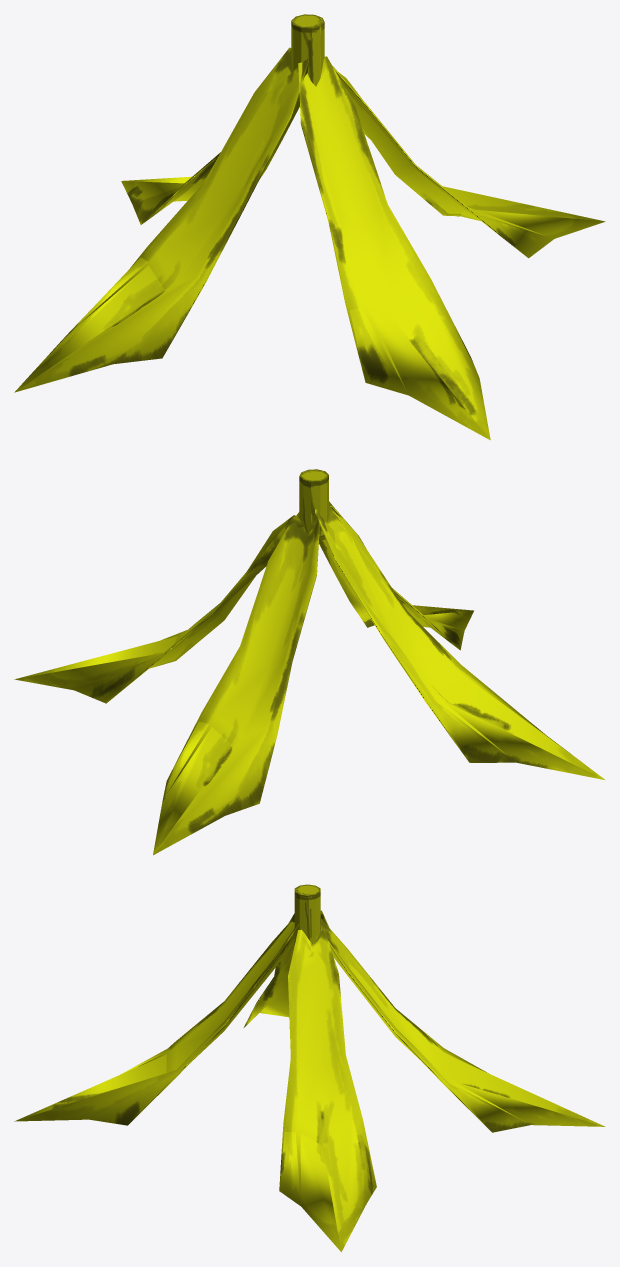
File: trash.fbx
3 renders of one model, top to bottom at view 1: azimuth 30°, elevation 25°; view 2: azimuth 150°, elevation 25°; view 3: azimuth 270°, elevation 25°, orthographic. The views are drawn at different scales.
Visible parts, largest first — view 1: pCylinder2; view 2: pCylinder2; view 3: pCylinder2.
Part boxes in pixels (x1,y1,x2,y2): pCylinder2: (14,14,605,440); pCylinder2: (14,469,605,855); pCylinder2: (14,884,605,1252).
Size of the model in its own units: 3.04 by 1.35 by 3.06.
Materials: 1 (1 with a texture image).
